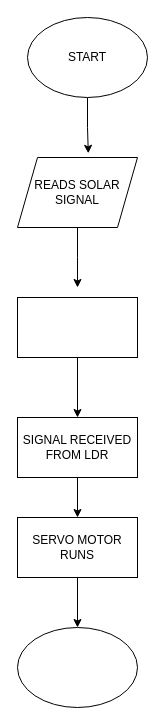
Some shapes in this 165 by 725 pixel diagram are drawn without their labels. The box of each missing label's shape, as (x1, y1, x2, y2) in pixels:
END: (16, 626, 138, 708)
SOLAR SIGNAL DETECTED BY LDR: (16, 296, 138, 358)
